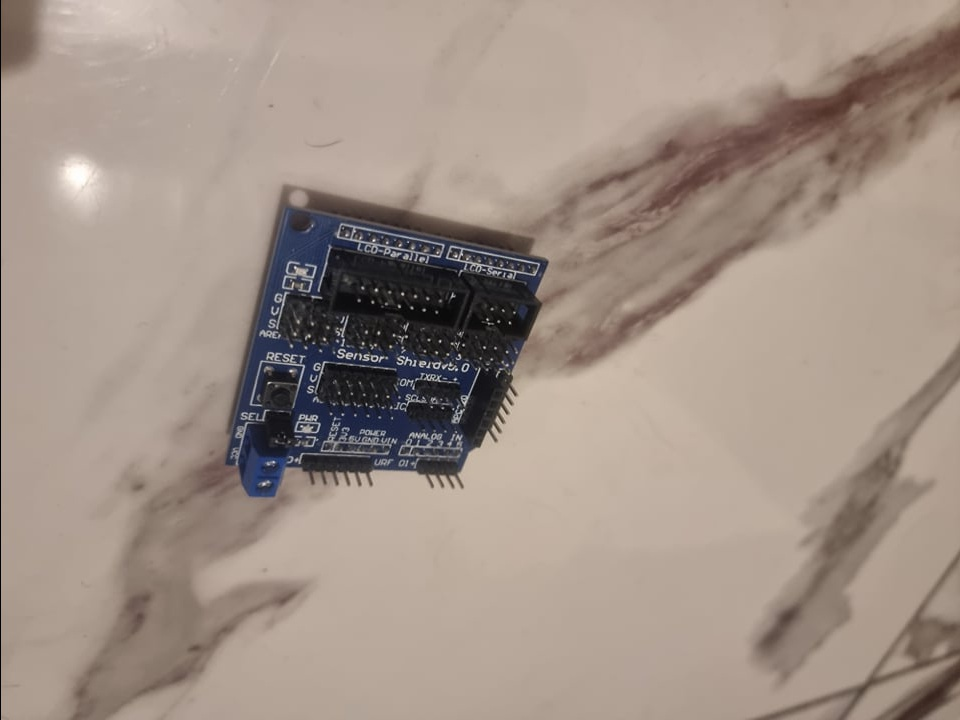5V EXPANSION: (221, 202, 550, 501)
